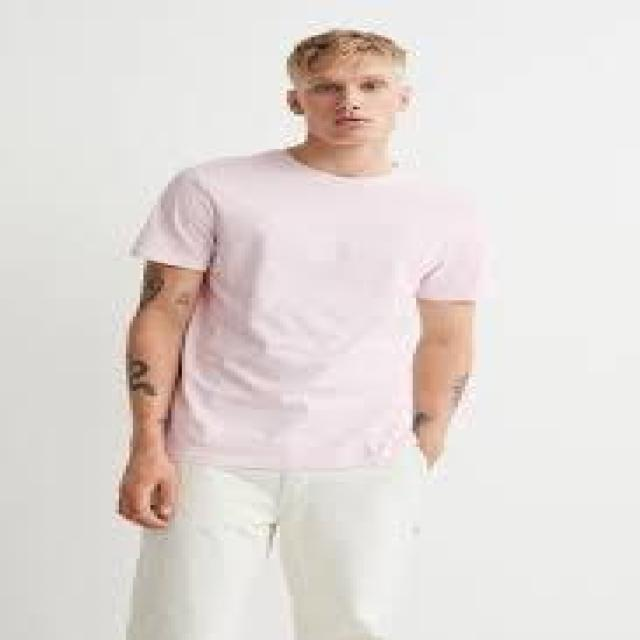Tshirt: (86, 140, 526, 477)
